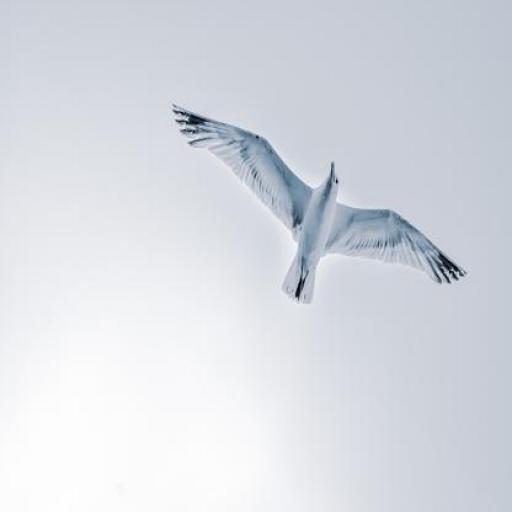bird: (171, 102, 468, 307)
